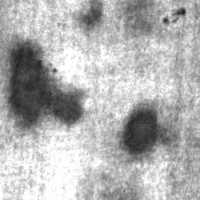patches: (2, 35, 89, 134), (116, 103, 163, 158)
